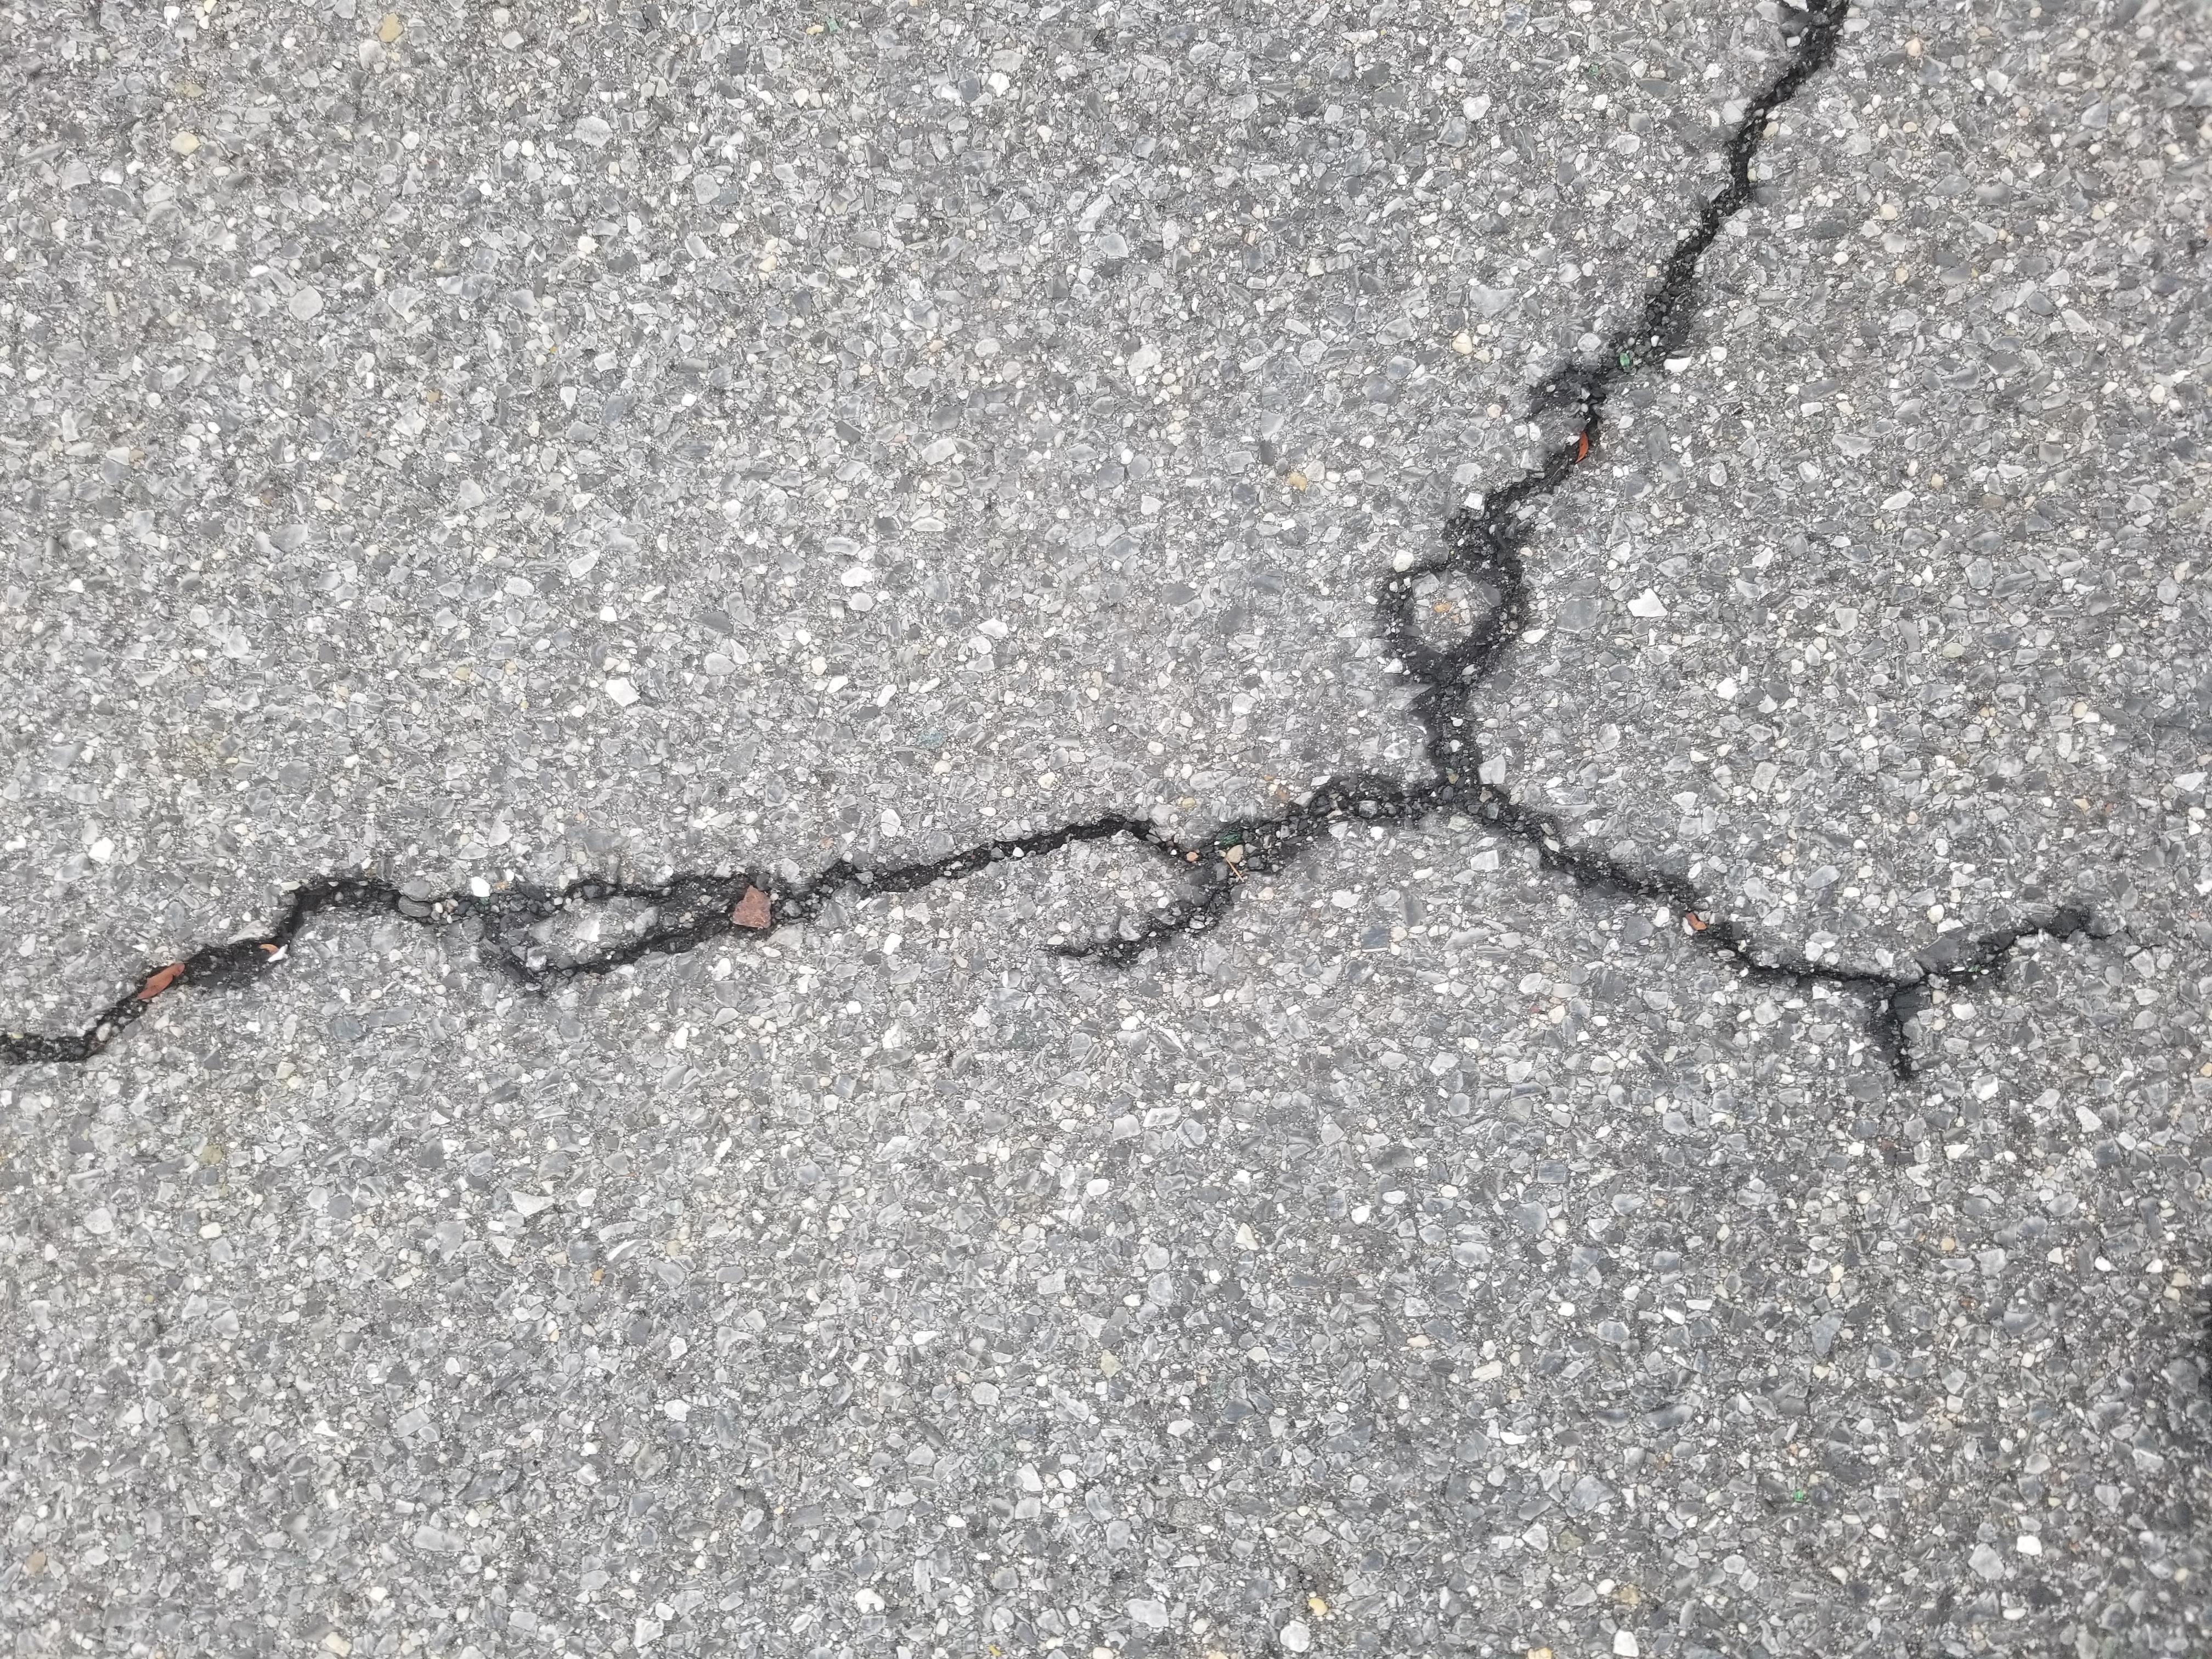crack: (740, 0, 1256, 1584), (1193, 1006, 2212, 1380)
